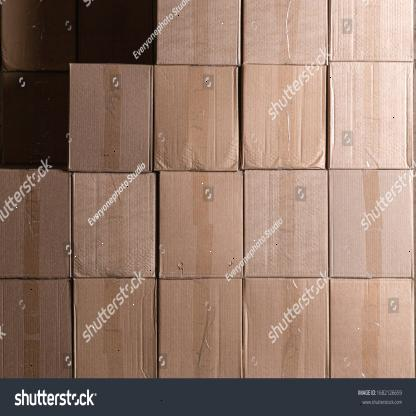box: (153, 62, 242, 171), (68, 61, 152, 174), (71, 170, 156, 280), (330, 169, 414, 280), (328, 61, 414, 169), (158, 169, 243, 278), (244, 167, 327, 278), (241, 66, 326, 168), (243, 279, 329, 378), (72, 280, 156, 380), (159, 277, 243, 376), (331, 277, 413, 378), (0, 170, 72, 278), (0, 282, 74, 380), (242, 0, 329, 66), (155, 0, 241, 62), (326, 0, 413, 60)
